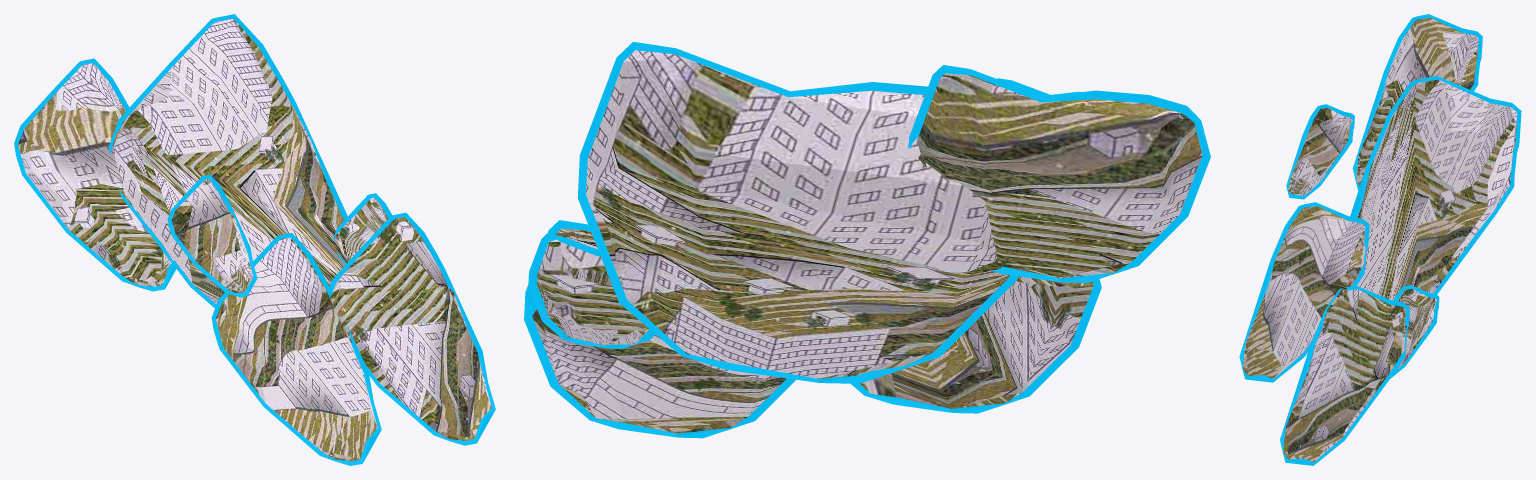
The model's file is Rewilding_the_urban_void_-_Abstract.glb.
3 views of the same model, side by side, from view 1: azimuth 30°, elevation 25°; view 2: azimuth 150°, elevation 25°; view 3: azimuth 270°, elevation 25° (orthographic). The views are drawn at different scales.
Parts seen in each view (by area): view 1: Muhammad Aziz.001; view 2: Muhammad Aziz.001; view 3: Muhammad Aziz.001.
Part boxes in pixels (<box>): Muhammad Aziz.001: <box>14,14,495,465</box>; Muhammad Aziz.001: <box>524,41,1210,438</box>; Muhammad Aziz.001: <box>1239,14,1521,465</box>.
Bounding box in the file's own units: 4.72 × 3.91 × 3.19.
2 materials, 1 textured.
